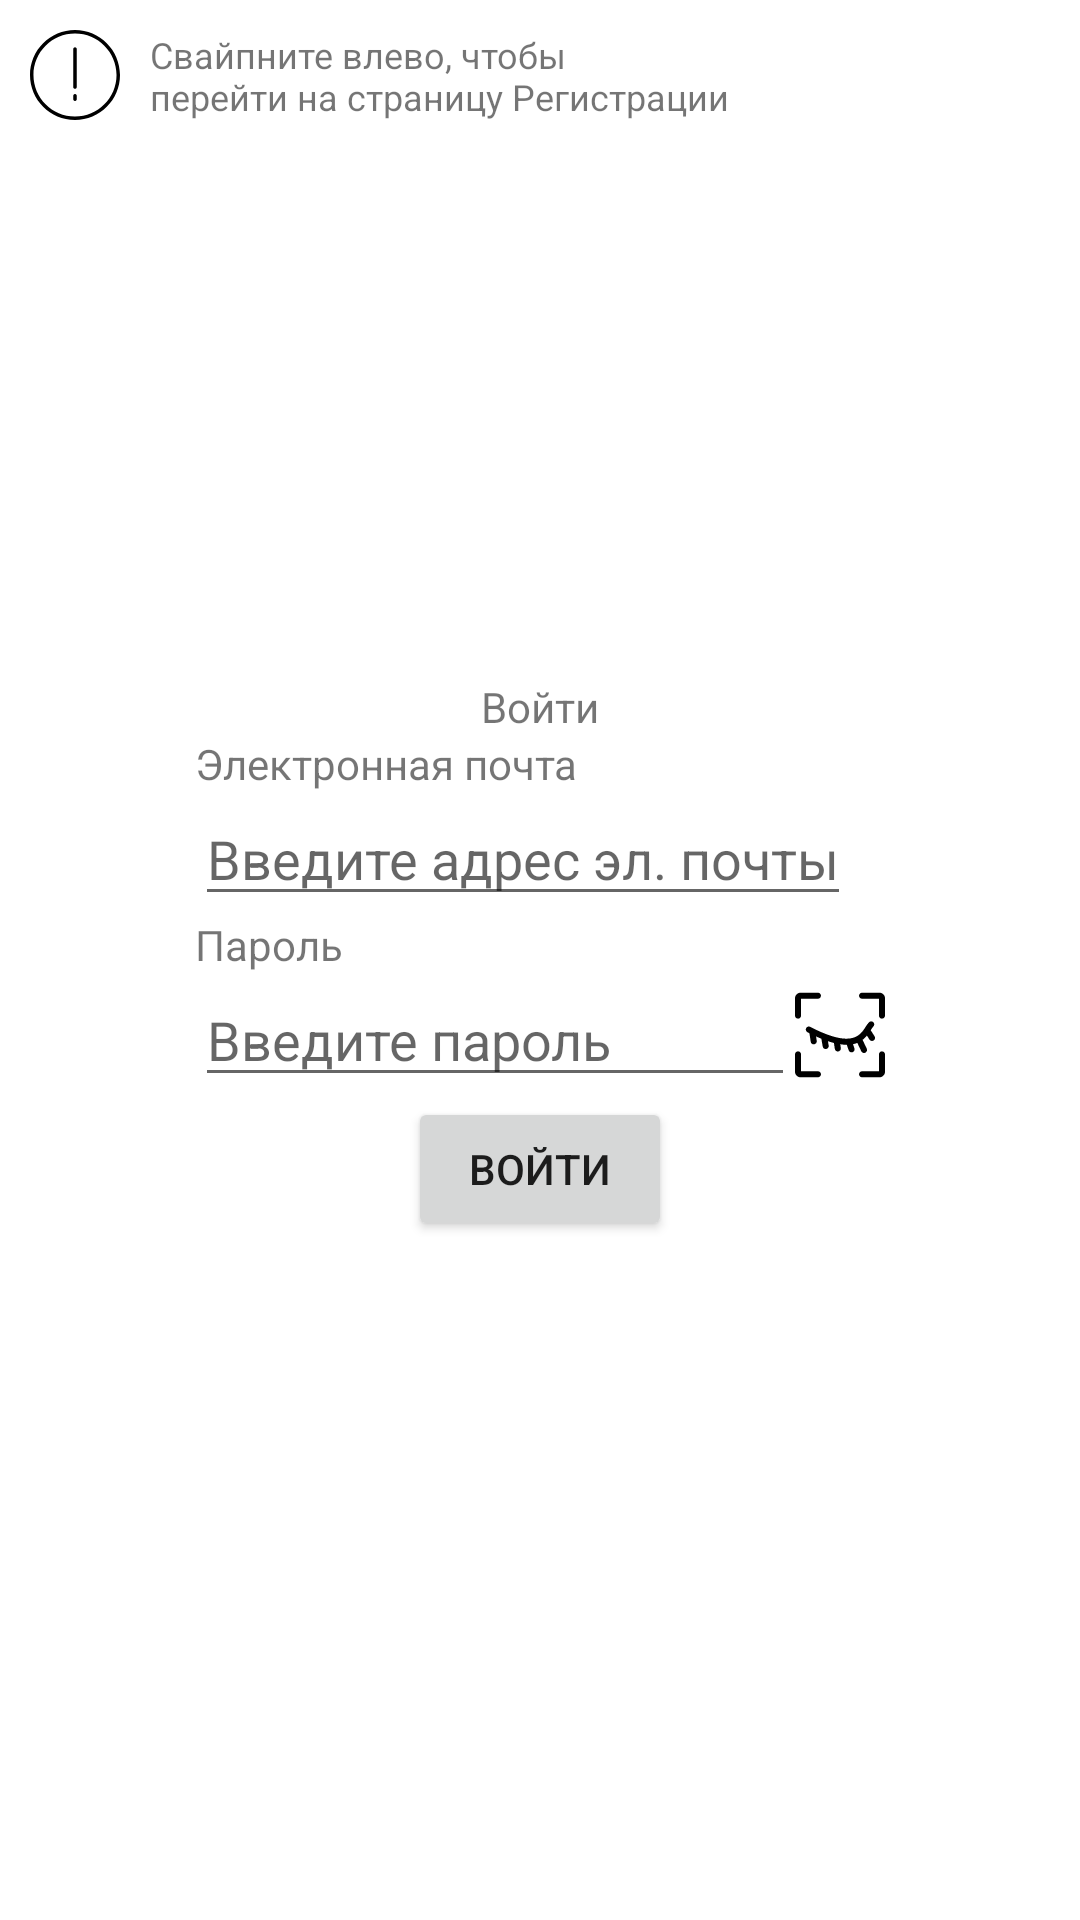

Icon bounding boxes for this 1080x1920 phone screenshot, format detection(x1, y1, x2, y2):
eye closed: detection(795, 992, 885, 1078)
warning: detection(30, 30, 120, 120)
